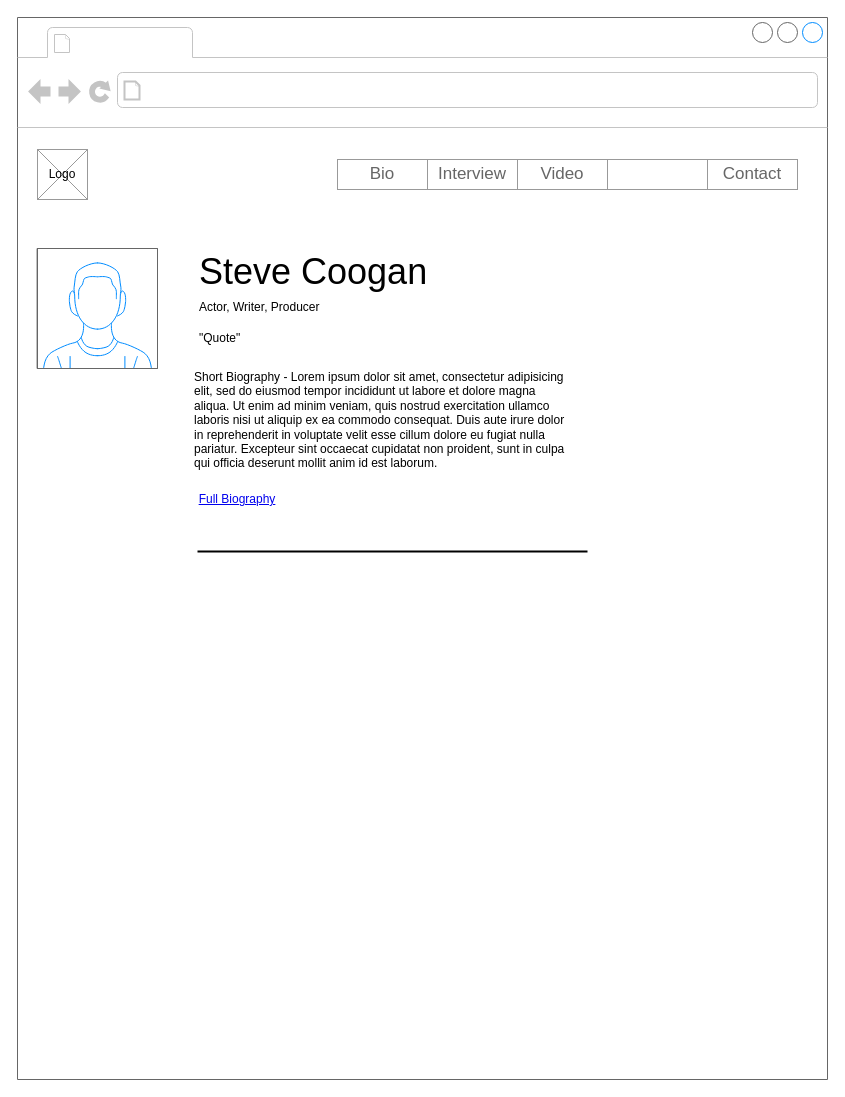
The diagram is 845 pixels wide and 1097 high, and some of its shapes have lost their labels. Here are the shapes that lost their labels. From the top down, the centre of each, then its label:
(x=132, y=42): Home
(x=307, y=90): https://www.tribute-to-steve-coogan.com
(x=657, y=174): Awards
